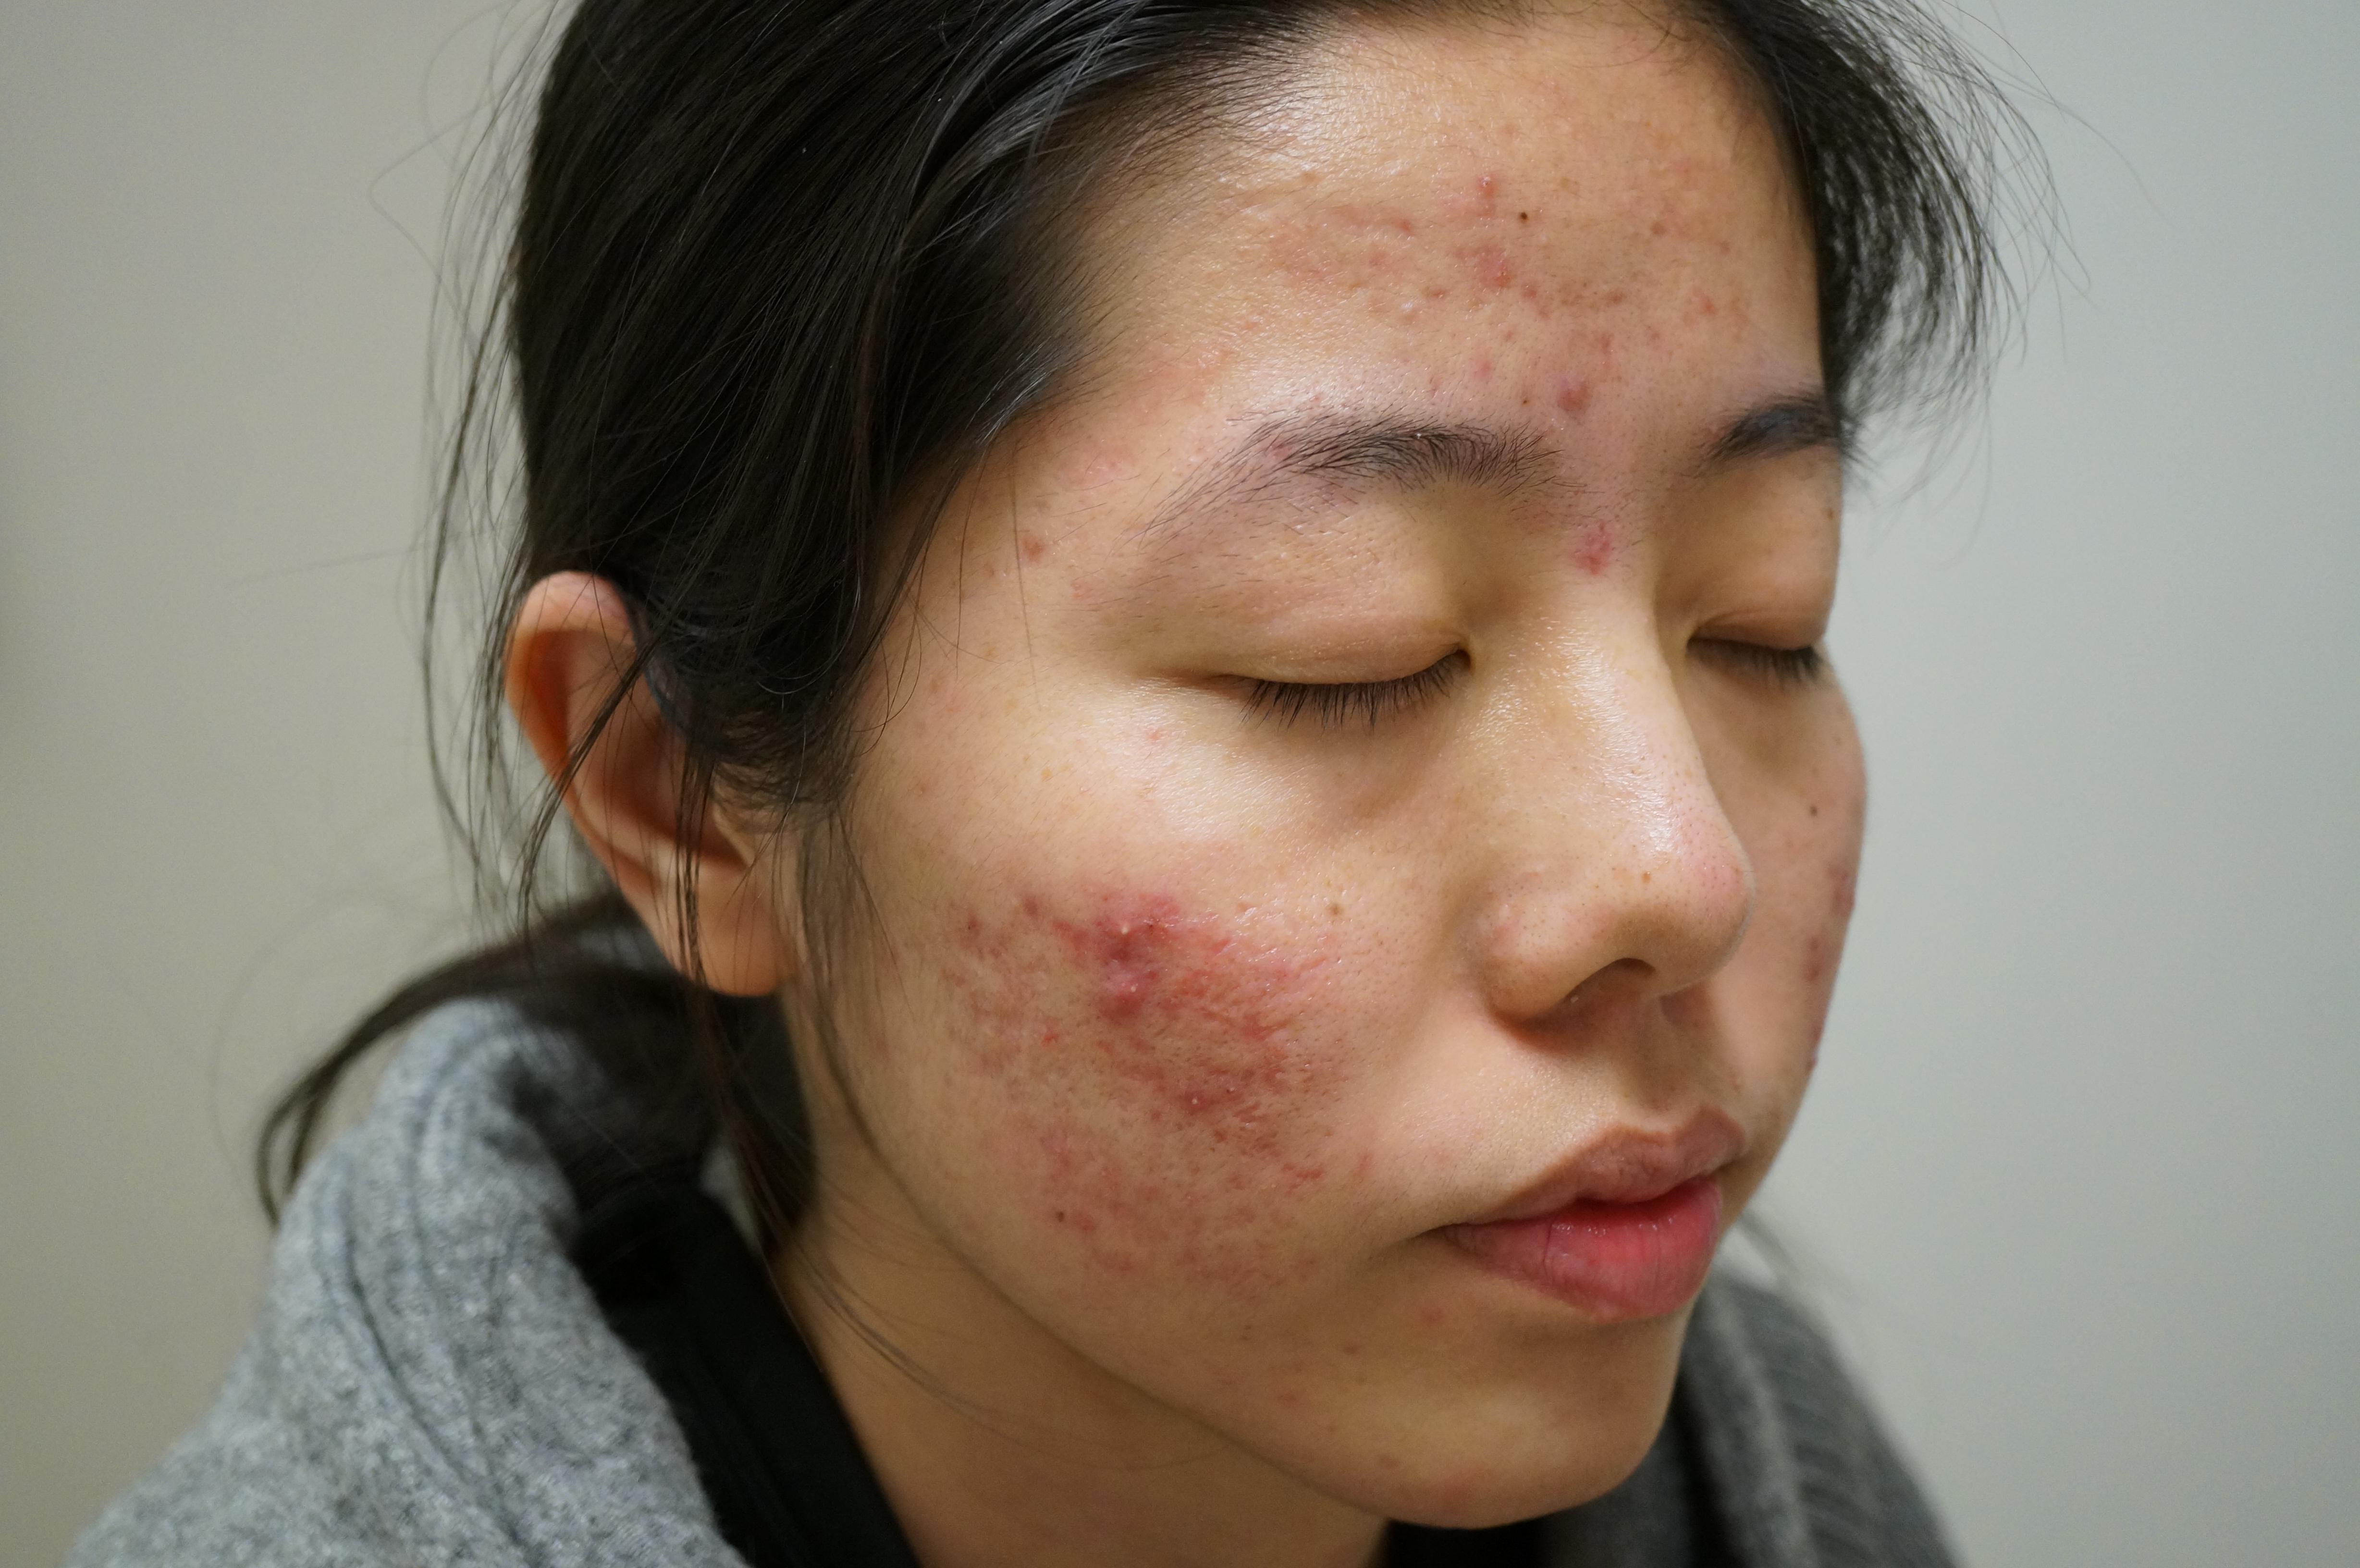fore: (1533, 509, 1648, 618), (1093, 957, 1181, 1052), (1561, 325, 1632, 437), (1081, 877, 1169, 957), (920, 952, 1013, 1024), (1471, 222, 1548, 306), (1165, 1060, 1233, 1148), (1221, 996, 1312, 1060), (1449, 154, 1529, 222), (1436, 341, 1517, 409), (1240, 1036, 1316, 1108), (1256, 917, 1316, 1004), (1022, 1008, 1093, 1080), (978, 861, 1053, 929), (1349, 198, 1428, 257), (1037, 1192, 1113, 1248), (1177, 936, 1212, 1024), (1016, 521, 1060, 590), (1037, 905, 1085, 968), (945, 908, 994, 964), (1240, 1104, 1284, 1157), (1044, 1123, 1097, 1167)
